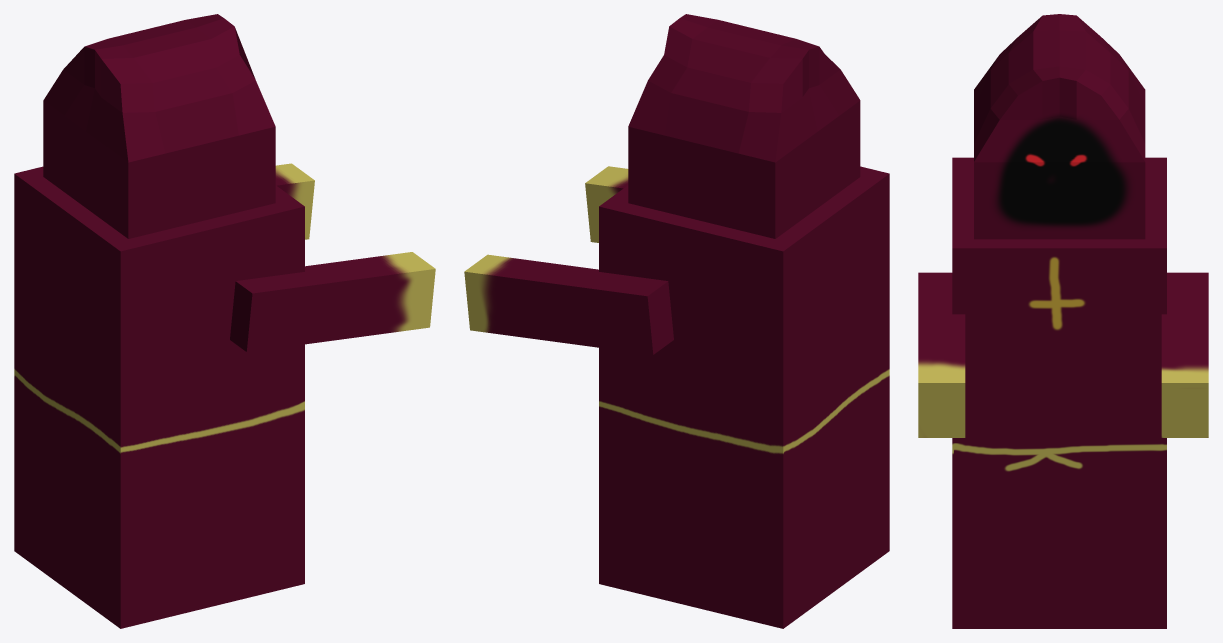
File: newRangeEnemy.fbx
The picture shows the model from 3 angles, left to right: view 1: azimuth 30°, elevation 25°; view 2: azimuth 150°, elevation 25°; view 3: azimuth 270°, elevation 25°; orthographic projection.
Parts seen in each view (by area): view 1: Cube, Cube.001, Cube.002, Cube.004, Cube.003; view 2: Cube, Cube.001, Cube.002, Cube.003, Cube.004; view 3: Cube.001, Cube, Cube.002, Cube.003, Cube.004.
Boxes of the visible parts, x1,y1,x2,y2 form: Cube: (14, 358, 304, 628); Cube.001: (14, 166, 304, 442); Cube.002: (43, 14, 275, 238); Cube.004: (230, 252, 435, 351); Cube.003: (275, 163, 314, 239); Cube: (599, 358, 889, 628); Cube.001: (599, 166, 889, 440); Cube.002: (628, 14, 860, 238); Cube.003: (464, 254, 673, 354); Cube.004: (585, 166, 628, 242); Cube.001: (952, 157, 1166, 442); Cube: (952, 443, 1166, 628); Cube.002: (974, 14, 1145, 239); Cube.003: (1161, 272, 1208, 437); Cube.004: (918, 272, 965, 437).
Size of the model in its own units: 324 by 553 by 271.
Materials: 5 (5 with a texture image).
